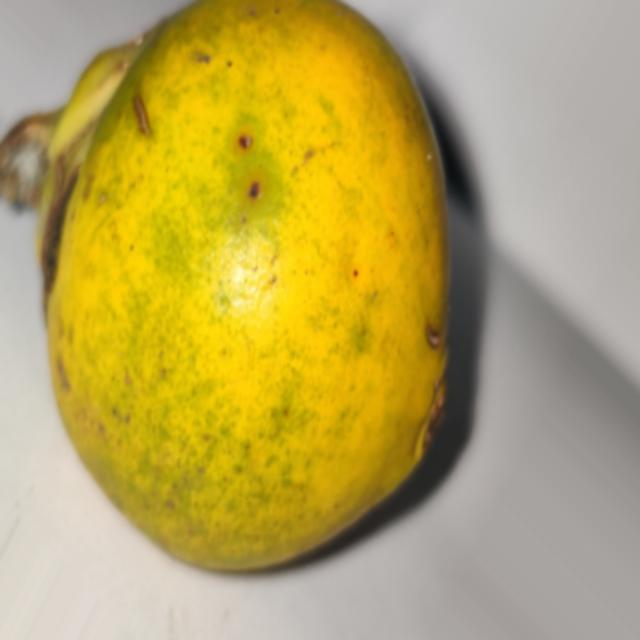damaged: (0, 0, 450, 576)
